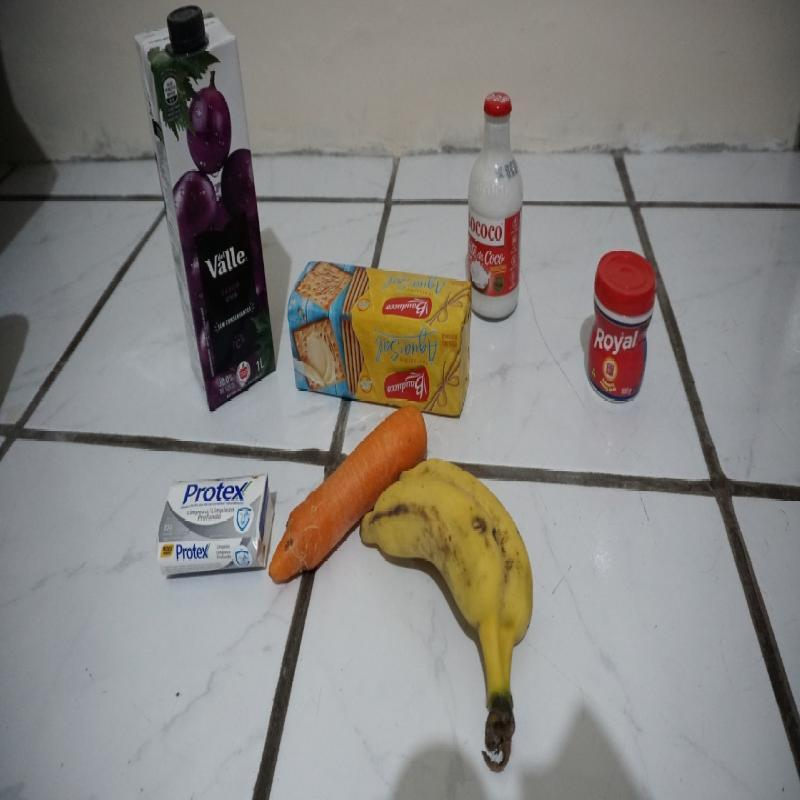Banana: (362, 456, 534, 757)
Carrot: (270, 401, 428, 585)
Coconut Milk: (468, 91, 520, 321)
Cracker: (289, 260, 473, 419)
Soap: (158, 477, 276, 577)
Yeast: (589, 250, 654, 404)
